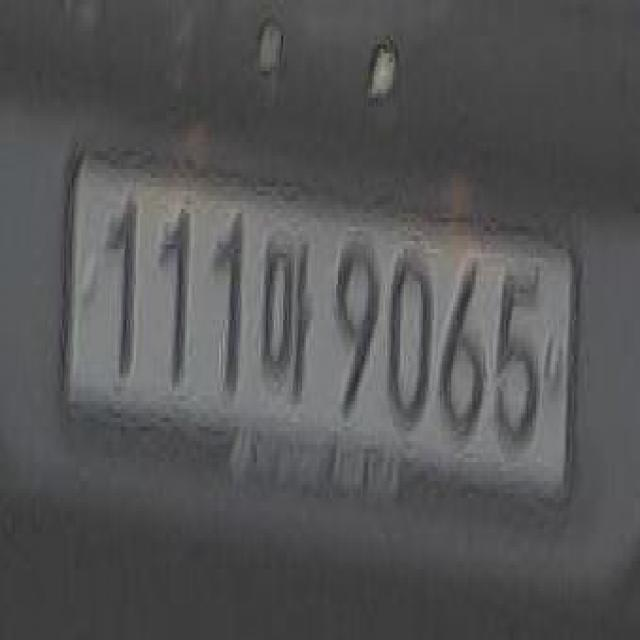illegal_plate: (62, 144, 575, 514)
